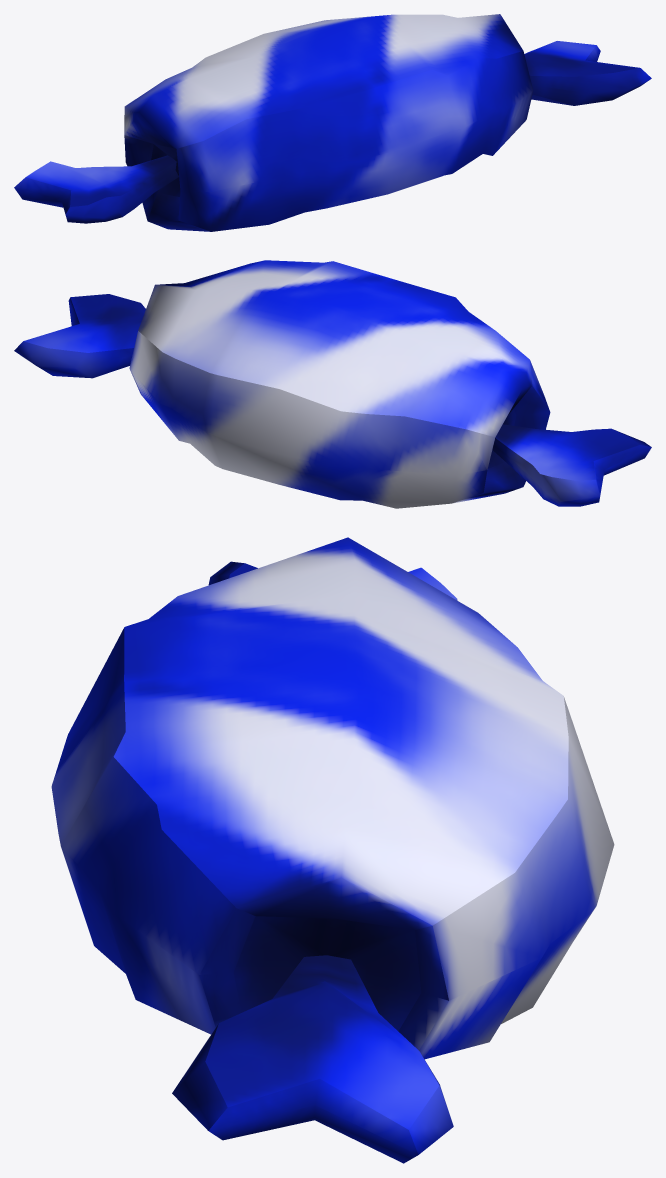
Rendered from assets_same_uvset_dulce_azul.fbx.
3 views of the same model, one above another, from view 1: azimuth 30°, elevation 25°; view 2: azimuth 150°, elevation 25°; view 3: azimuth 270°, elevation 25° (orthographic). The views are drawn at different scales.
Parts seen in each view (by area): view 1: assets_same_uvset:dulce_azul; view 2: assets_same_uvset:dulce_azul; view 3: assets_same_uvset:dulce_azul.
Boxes of the visible parts, x1,y1,x2,y2 form: assets_same_uvset:dulce_azul: (14,14,651,231); assets_same_uvset:dulce_azul: (14,260,651,508); assets_same_uvset:dulce_azul: (51,537,614,1163).
Size of the model in its own units: 2.85 by 0.7114 by 1.19.
1 material, 1 textured.
